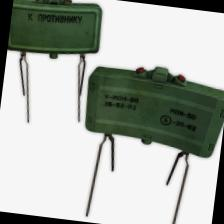MOH-50: (81, 62, 224, 161), (6, 0, 111, 62)
